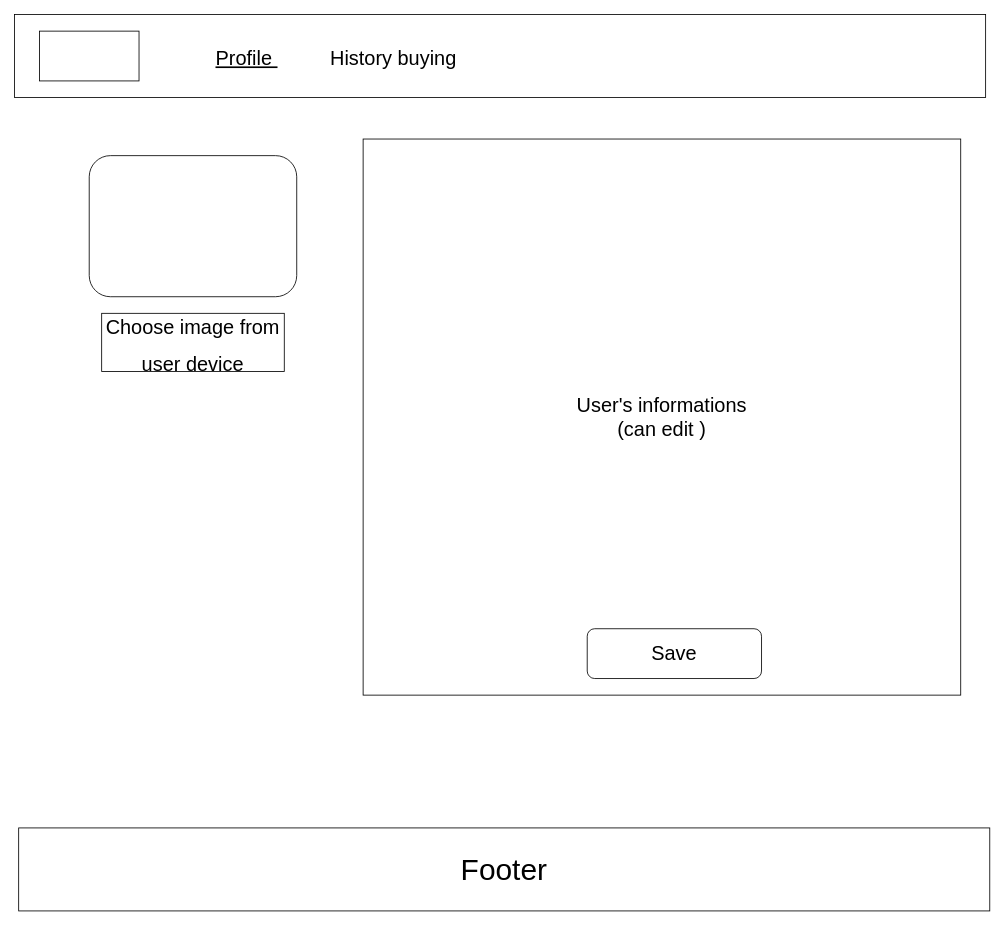
The diagram is 1004 pixels wide and 925 high, and some of its shapes have lost their labels. Here are the shapes that lost their labels. From the top down, the box of each, then its label:
(39, 30, 139, 81): Logo
(88, 155, 297, 297): Avatar
